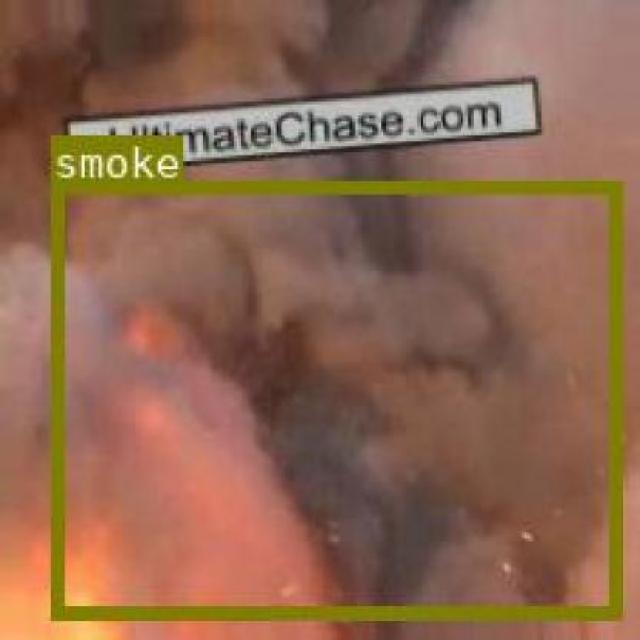Smoke: (48, 178, 620, 617)
